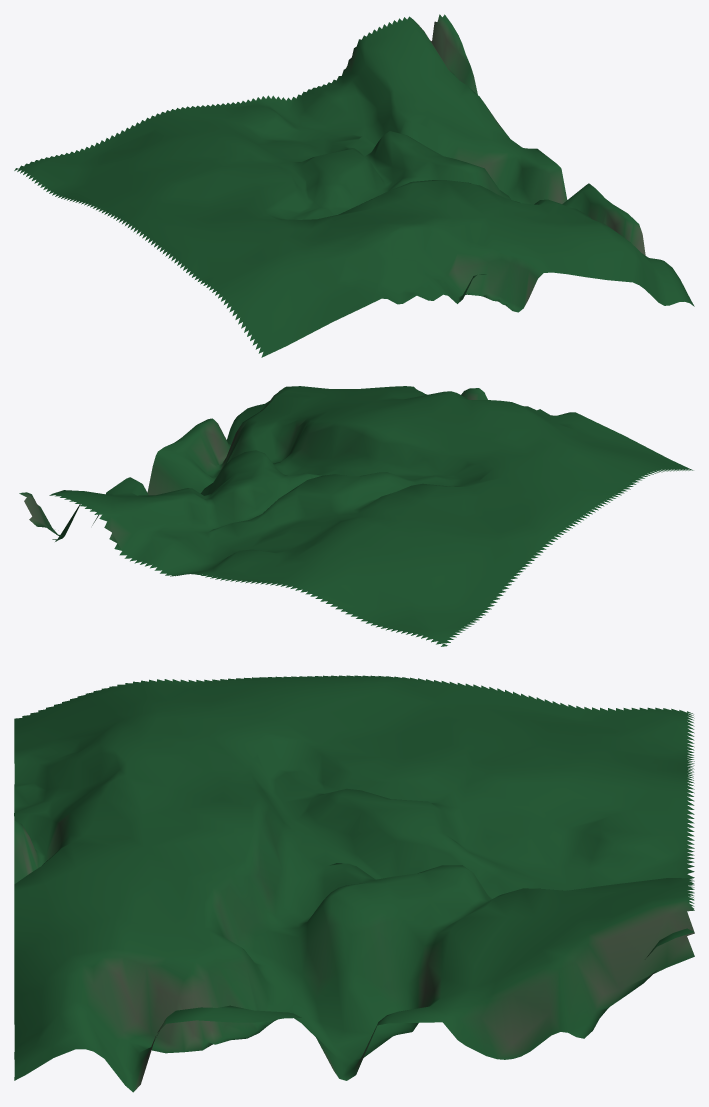
The model's file is payo_land_x1_ym1_lod2.glb.
The picture shows the model from 3 angles, top to bottom: view 1: azimuth 30°, elevation 25°; view 2: azimuth 150°, elevation 25°; view 3: azimuth 270°, elevation 25°; orthographic projection. The views are drawn at different scales.
Visible parts, largest first — view 1: payo_land_x1_ym1; view 2: payo_land_x1_ym1; view 3: payo_land_x1_ym1.
Boxes of the visible parts, x1,y1,x2,y2 form: payo_land_x1_ym1: [14, 14, 694, 357]; payo_land_x1_ym1: [19, 386, 693, 646]; payo_land_x1_ym1: [14, 675, 694, 1092].
Bounding box in the file's own units: 258 × 71.28 × 258.
